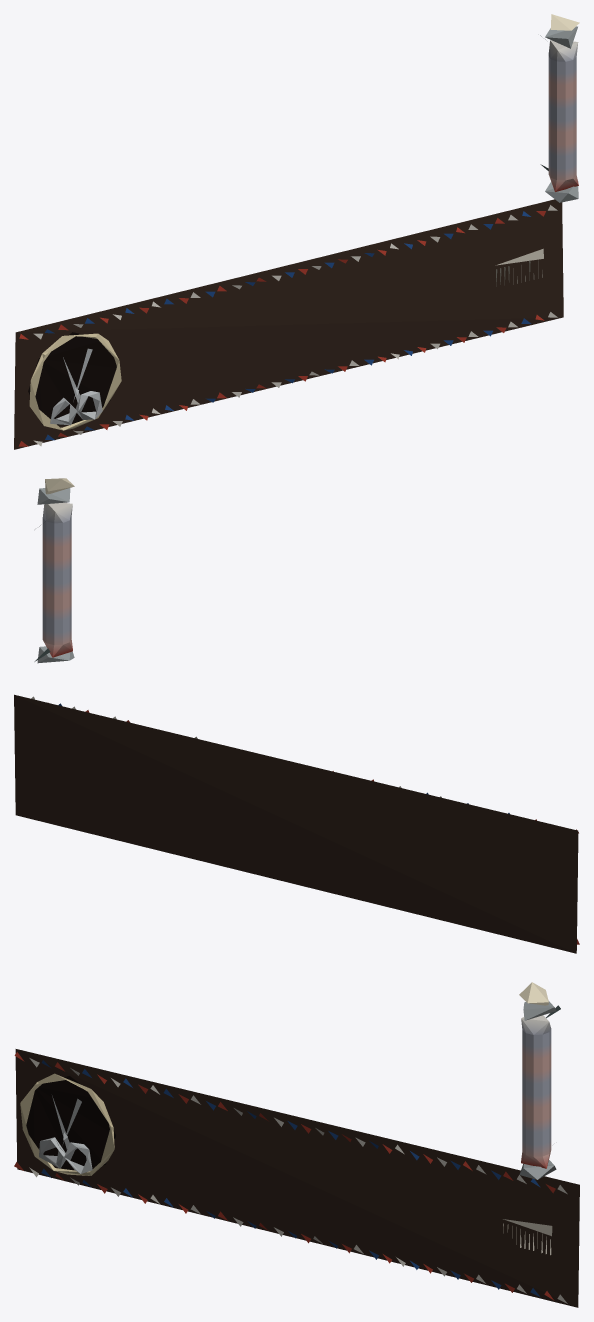
The model's file is bang_hot_toc_anh_ba_60.glb.
The picture shows the model from 3 angles, top to bottom: view 1: azimuth 30°, elevation 25°; view 2: azimuth 150°, elevation 25°; view 3: azimuth 330°, elevation 25°; orthographic projection. The views are drawn at different scales.
Visible parts, largest first — view 1: bang_hot_toc_anh_ba_60; view 2: bang_hot_toc_anh_ba_60; view 3: bang_hot_toc_anh_ba_60.
Part boxes in pixels (left/top/right/bottom): bang_hot_toc_anh_ba_60: left=14, top=14, right=579, bottom=449; bang_hot_toc_anh_ba_60: left=14, top=478, right=579, bottom=953; bang_hot_toc_anh_ba_60: left=14, top=982, right=579, bottom=1307.
Bounding box in the file's own units: 5.8 × 3.26 × 0.6045.
